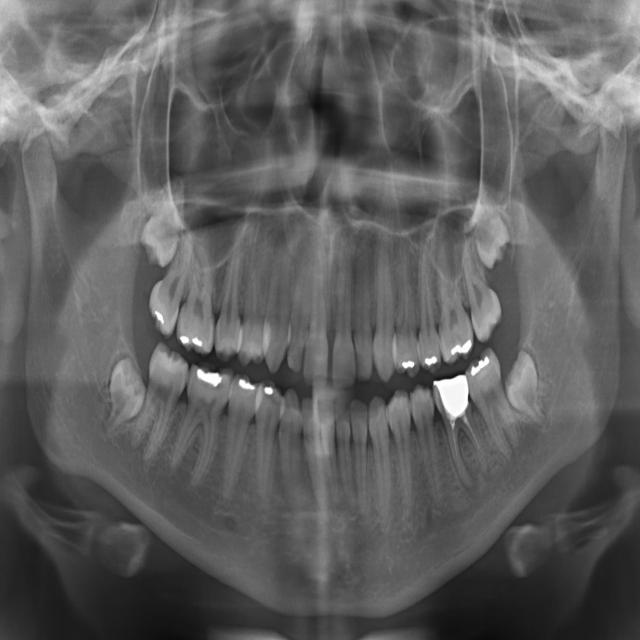AmalgamRestoration: (434, 372, 468, 416), (470, 346, 491, 382), (195, 368, 223, 389), (151, 301, 168, 328), (451, 338, 473, 355), (400, 354, 417, 374), (238, 378, 254, 393), (424, 352, 438, 369), (193, 332, 205, 351), (177, 329, 189, 346), (263, 382, 275, 397)
RootCanalTreatment: (448, 416, 488, 483)
periapicalLesion: (459, 463, 479, 501), (479, 458, 496, 488)
